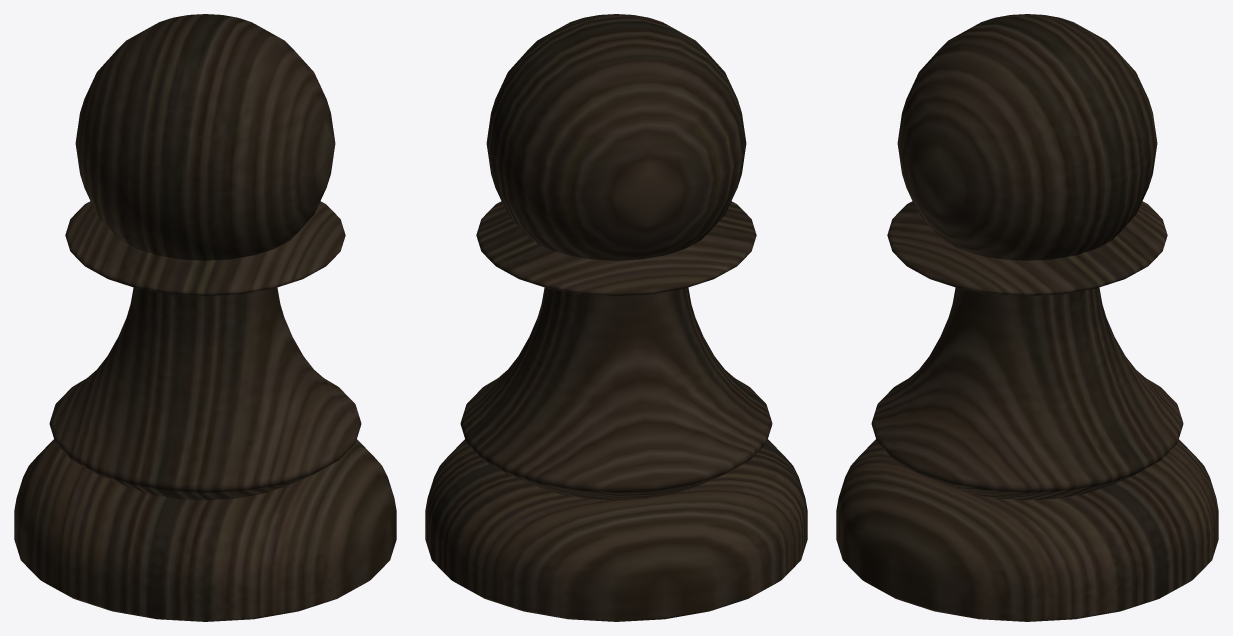
File: black_pawn.gltf
3 views of the same model, side by side, from view 1: azimuth 30°, elevation 25°; view 2: azimuth 150°, elevation 25°; view 3: azimuth 270°, elevation 25° (orthographic).
Visible parts, largest first — view 1: Material2045; view 2: Material2045; view 3: Material2045.
Boxes of the visible parts, bbox=[...] form: Material2045: bbox=[14, 14, 396, 621]; Material2045: bbox=[425, 14, 807, 621]; Material2045: bbox=[836, 14, 1218, 621].
Bounding box in the file's own units: 0.1811 × 0.2705 × 0.1811.
Materials: 1 (1 with a texture image).
